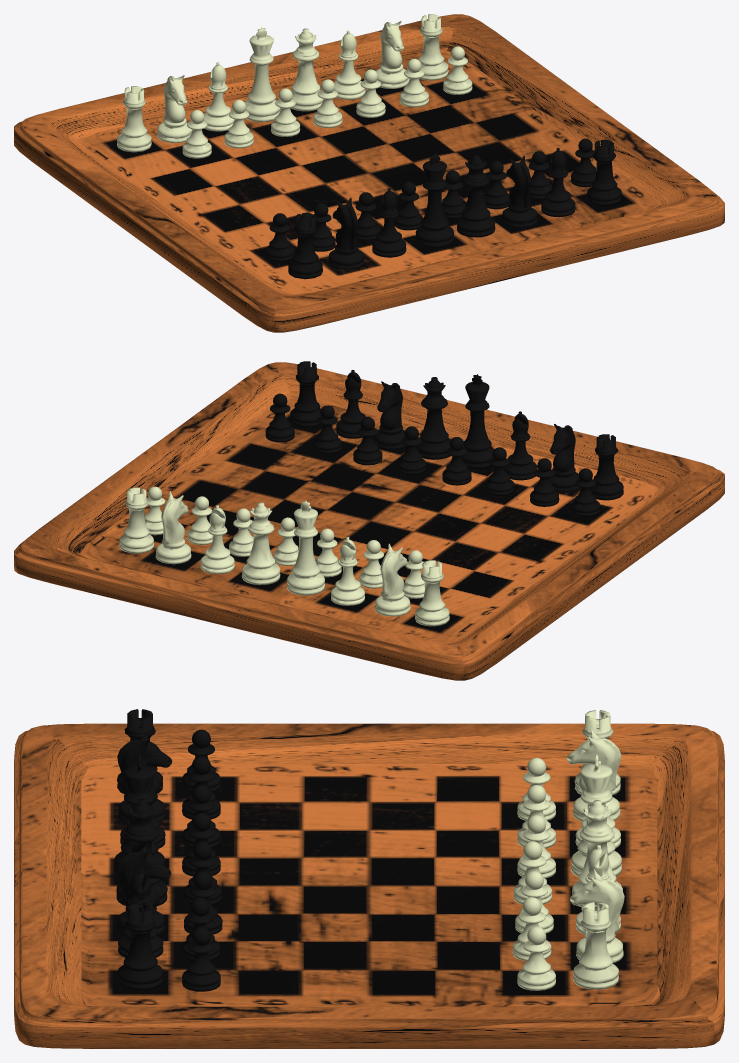
File: Chess01.glb
3 renders of one model, top to bottom at view 1: azimuth 30°, elevation 25°; view 2: azimuth 150°, elevation 25°; view 3: azimuth 270°, elevation 25°, orthographic. The views are drawn at different scales.
Parts seen in each view (by area): view 1: Cube, 6, 6.001, 5, 5.001, 3, 3.002, 3.001, 2, 3.003, 2.003, 2.002 (+20 smaller); view 2: Cube, 6.001, 6, 5.001, 5, 3.001, 3.003, 3.002, 2.001, 2.002, 3, 2 (+20 smaller); view 3: Cube, 2.003, 2.001, 3.003, 3.002, 3.001, 6.001, 3, 5, 1.001, 1.015, 5.001 (+18 smaller).
Boxes of the visible parts, <box> form: Cube: <box>14,14,724,332</box>; 6: <box>415,153,453,248</box>; 6.001: <box>244,27,280,122</box>; 5: <box>457,154,495,237</box>; 5.001: <box>290,28,323,111</box>; 3: <box>328,197,364,269</box>; 3.002: <box>502,155,537,227</box>; 3.001: <box>157,75,192,142</box>; 2: <box>288,212,322,279</box>; 3.003: <box>376,20,409,88</box>; 2.003: <box>587,139,621,205</box>; 2.002: <box>117,86,151,152</box>; Cube: <box>14,362,724,680</box>; 6.001: <box>287,500,324,595</box>; 6: <box>461,374,494,469</box>; 5.001: <box>241,502,280,585</box>; 5: <box>416,377,450,459</box>; 3.001: <box>374,543,410,616</box>; 3.003: <box>155,491,191,564</box>; 3.002: <box>373,381,406,449</box>; 2.001: <box>119,487,153,553</box>; 2.002: <box>415,560,449,626</box>; 3: <box>549,424,579,492</box>; 2: <box>590,434,623,500</box>; Cube: <box>14,723,724,1048</box>; 2.003: <box>117,902,163,990</box>; 2.001: <box>573,901,618,989</box>; 3.003: <box>570,869,624,963</box>; 3.002: <box>116,842,171,934</box>; 3.001: <box>566,728,621,821</box>; 6.001: <box>571,754,621,877</box>; 3: <box>117,730,172,822</box>; 5: <box>116,798,167,906</box>; 1.001: <box>517,926,555,990</box>; 1.015: <box>182,927,220,991</box>; 5.001: <box>572,800,622,906</box>.
Bounding box in the file's own units: 10.52 × 2.13 × 10.52.
4 materials, 1 textured.
